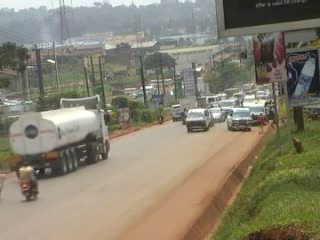Car: (206, 105, 226, 124)
Motorcycle: (15, 159, 43, 202)
